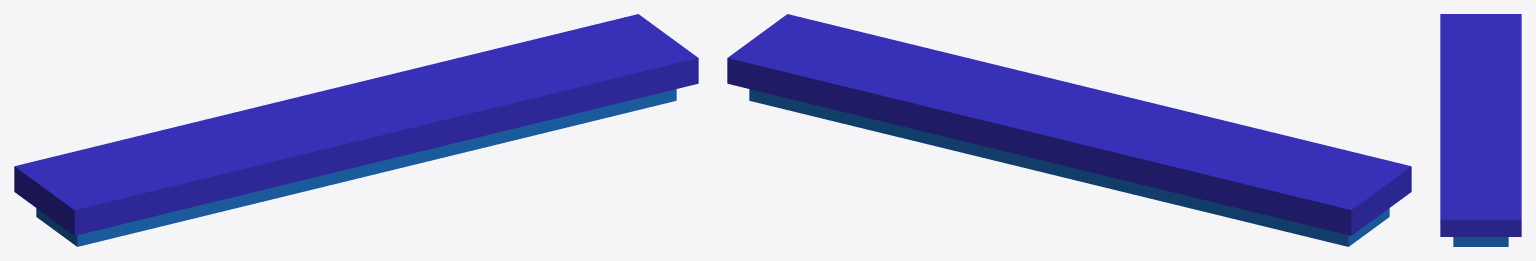
Rendered from SM_lamp.fbx.
3 views of the same model, side by side, from view 1: azimuth 30°, elevation 25°; view 2: azimuth 150°, elevation 25°; view 3: azimuth 270°, elevation 25° (orthographic). The views are drawn at different scales.
Parts seen in each view (by area): view 1: lamp; view 2: lamp; view 3: lamp.
Part boxes in pixels (bbox=[...]): lamp: bbox=[14, 14, 698, 246]; lamp: bbox=[727, 14, 1411, 246]; lamp: bbox=[1440, 14, 1521, 246].
Size of the model in its own units: 150 by 10.74 by 25.
